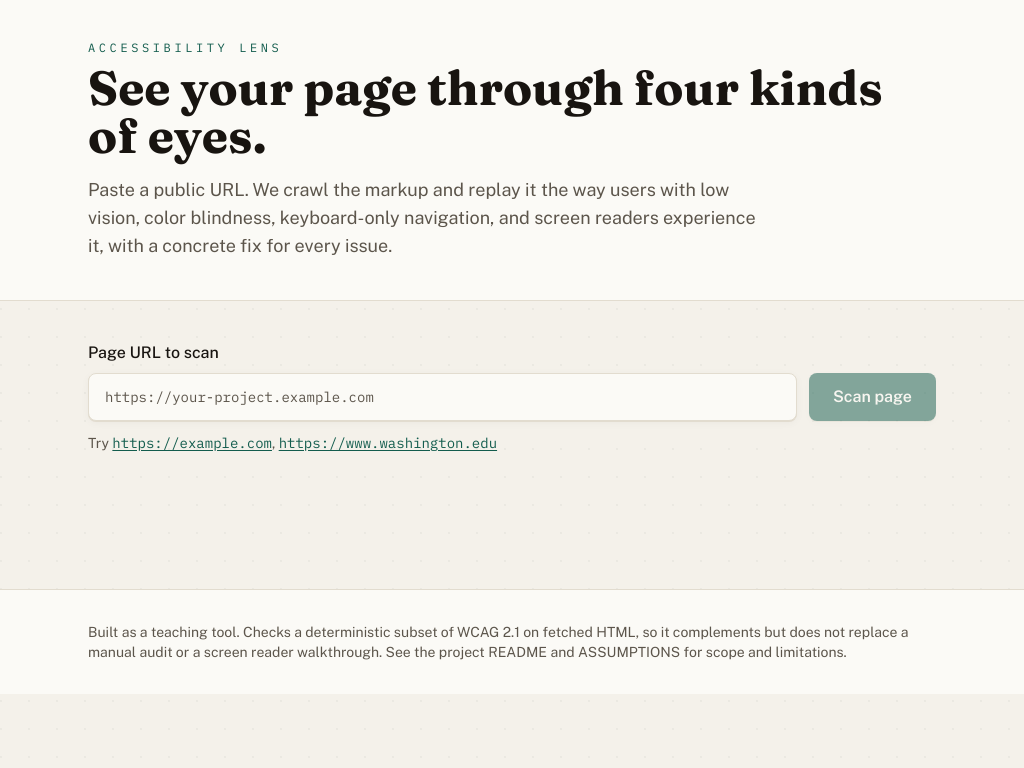
Scenario: App › shows a friendly error when the scan fails
Step 1. Type "http://localhost" into the field labelled "Page URL to scan" → (442, 397), box top-left (88, 373), bottom-right (797, 421)
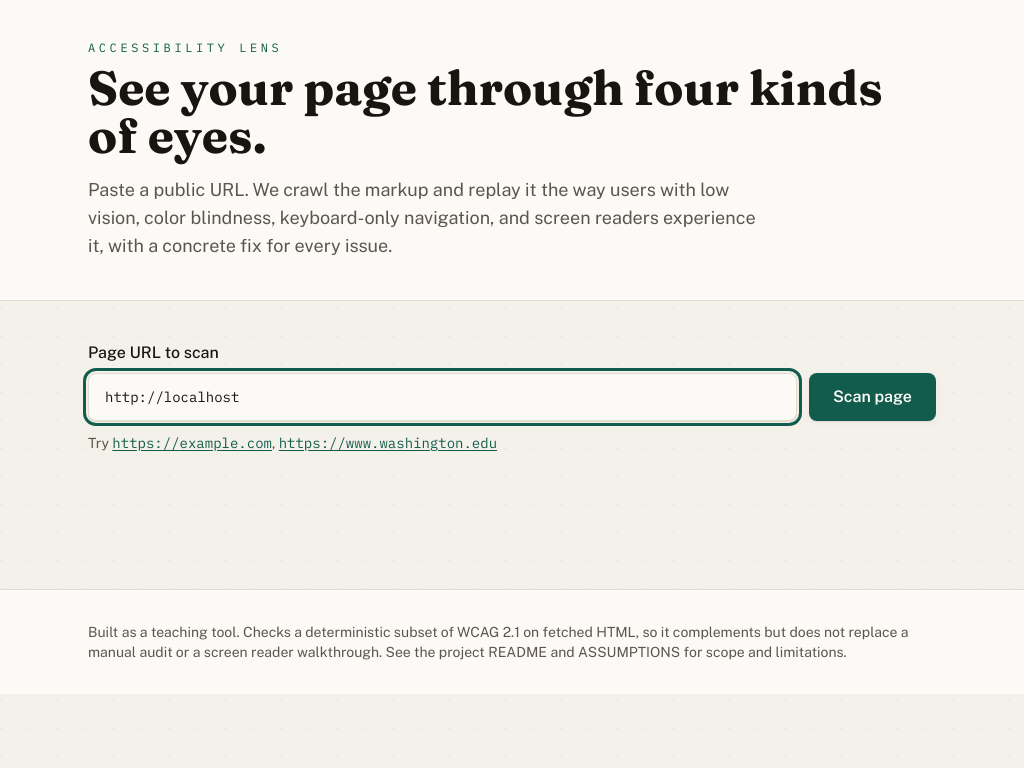
Step 2. Click the button "Scan page" → (872, 397), box top-left (809, 373), bottom-right (936, 421)
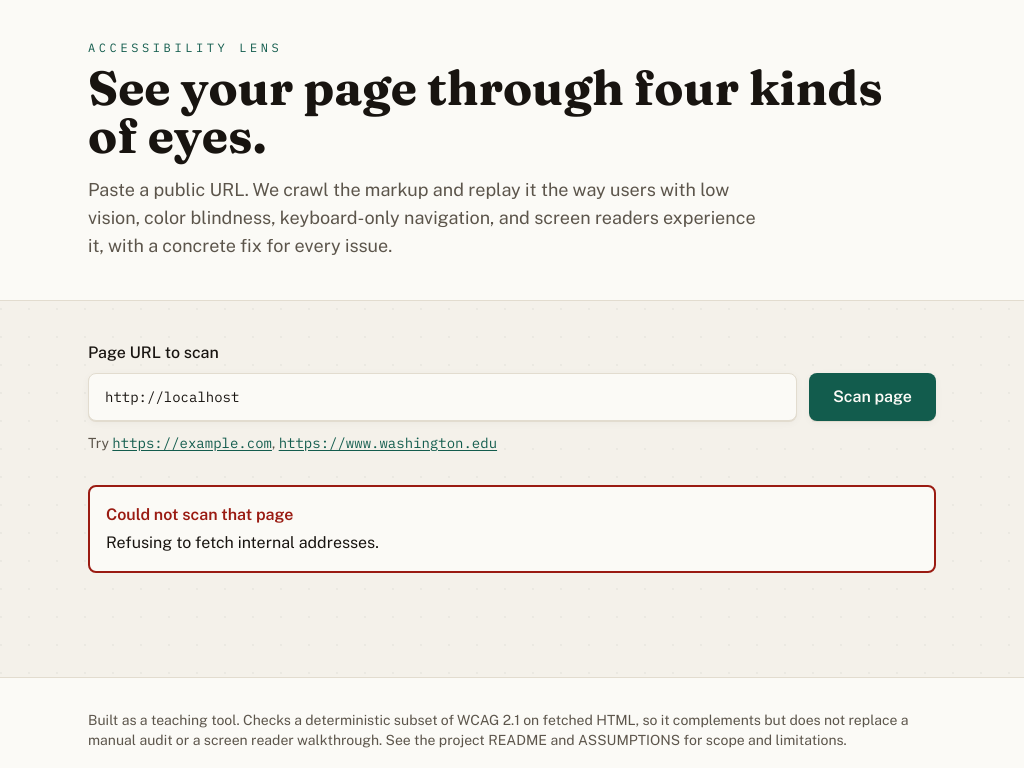
Expected: the message shows "internal addresses", top-left (106, 533), bottom-right (379, 552)
